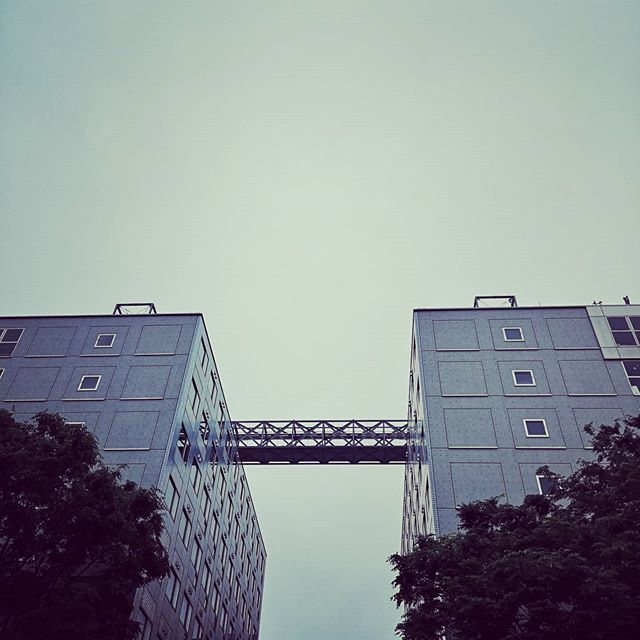bridge: (1, 314, 257, 635), (403, 311, 640, 640), (210, 400, 430, 483)
sky: (1, 1, 632, 299), (248, 312, 406, 640)
tree: (409, 425, 640, 636), (1, 402, 162, 639)
